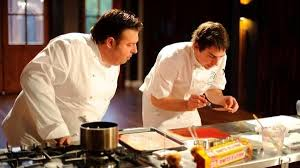Bad: (1, 8, 238, 121)
